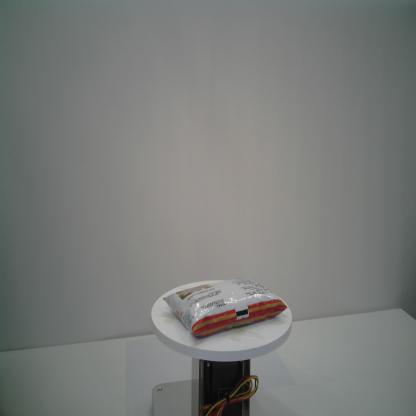Seasoner: (162, 276, 291, 340)
